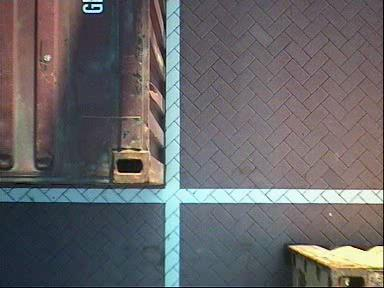groundmarker_2: (37, 196, 116, 260)
